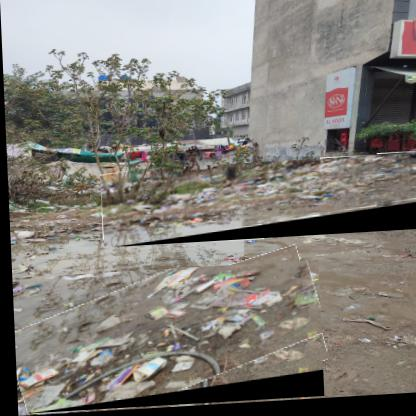Garbage: (11, 265, 322, 416), (100, 158, 416, 251)
